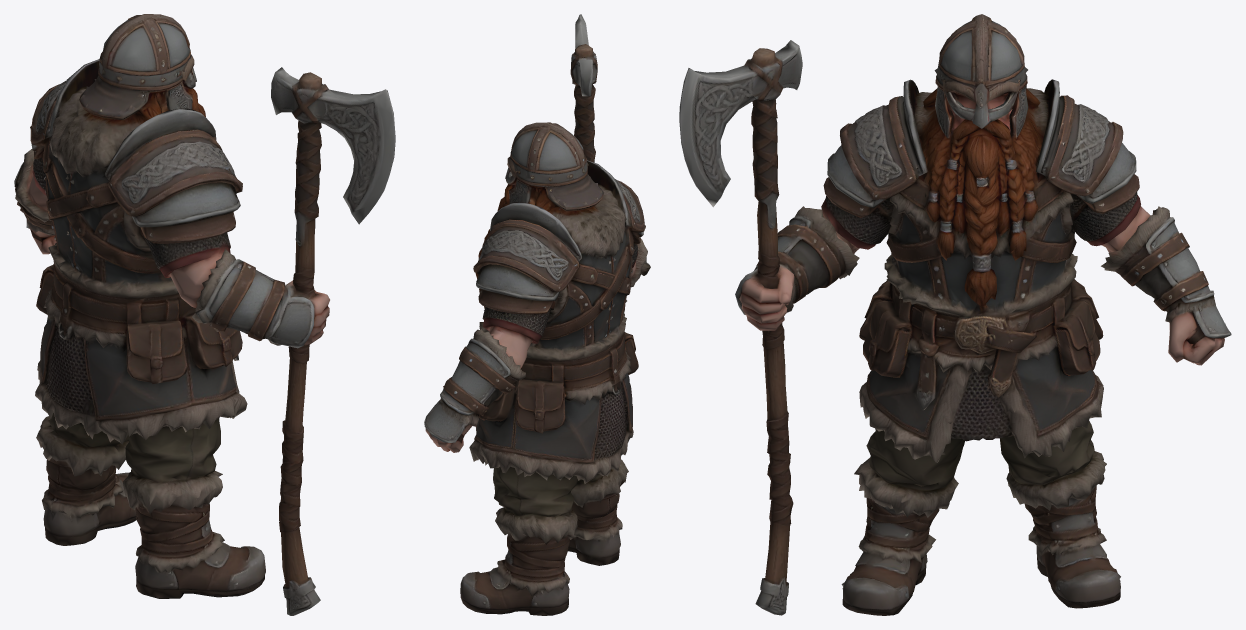
3 renders of one model, left to right at view 1: azimuth 30°, elevation 25°; view 2: azimuth 150°, elevation 25°; view 3: azimuth 270°, elevation 25°, orthographic. The views are drawn at different scales.
Parts seen in each view (by area): view 1: tripo_node_96fdabd0-4804-440d-9a6f-d30e935de59b; view 2: tripo_node_96fdabd0-4804-440d-9a6f-d30e935de59b; view 3: tripo_node_96fdabd0-4804-440d-9a6f-d30e935de59b.
Part boxes in pixels (bbox=[...]): tripo_node_96fdabd0-4804-440d-9a6f-d30e935de59b: bbox=[14, 14, 395, 615]; tripo_node_96fdabd0-4804-440d-9a6f-d30e935de59b: bbox=[424, 14, 650, 615]; tripo_node_96fdabd0-4804-440d-9a6f-d30e935de59b: bbox=[679, 14, 1231, 615].
Size of the model in its own units: 0.375 by 1 by 0.8746.
Materials: 1 (1 with a texture image).
